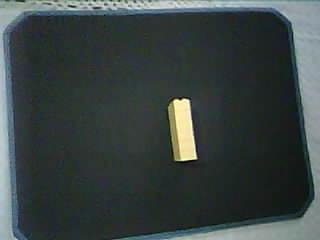lego: (166, 97, 197, 162)
